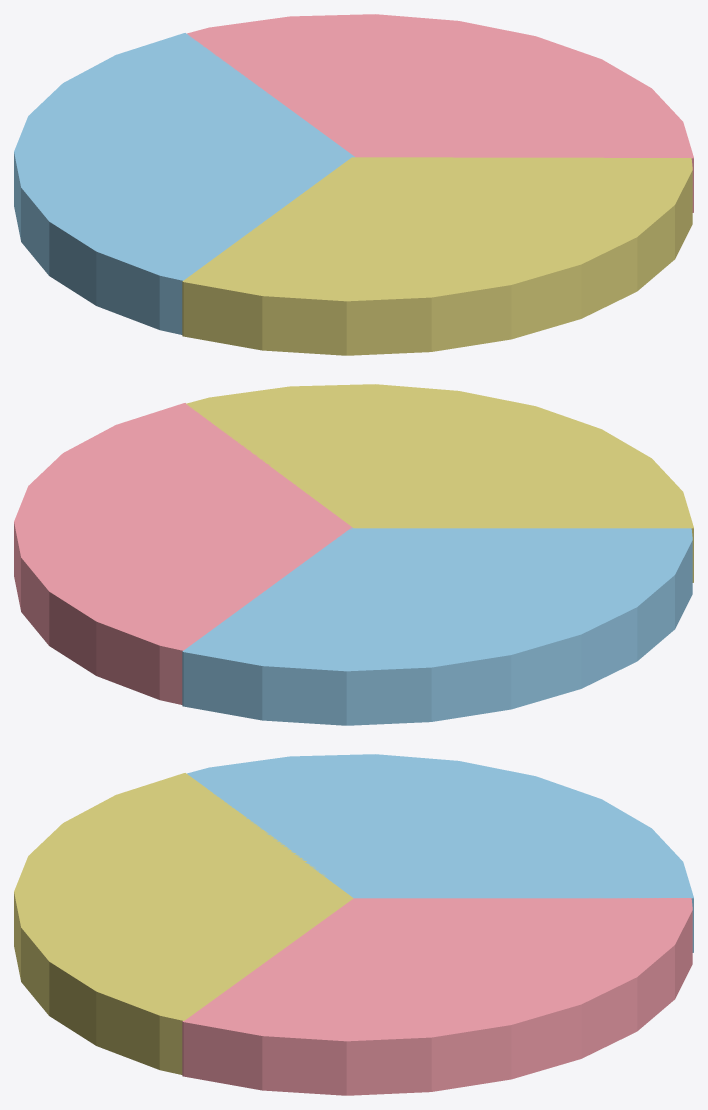
File: exit p.fbx
3 renders of one model, top to bottom at view 1: azimuth 30°, elevation 25°; view 2: azimuth 150°, elevation 25°; view 3: azimuth 270°, elevation 25°, orthographic.
Visible parts, largest first — view 1: Cylinder.001; view 2: Cylinder.001; view 3: Cylinder.001.
Part boxes in pixels (x1,y1,x2,y2): Cylinder.001: [14, 14, 693, 355]; Cylinder.001: [14, 384, 693, 725]; Cylinder.001: [14, 754, 693, 1095].
Size of the model in its own units: 253 by 22.34 by 253.
